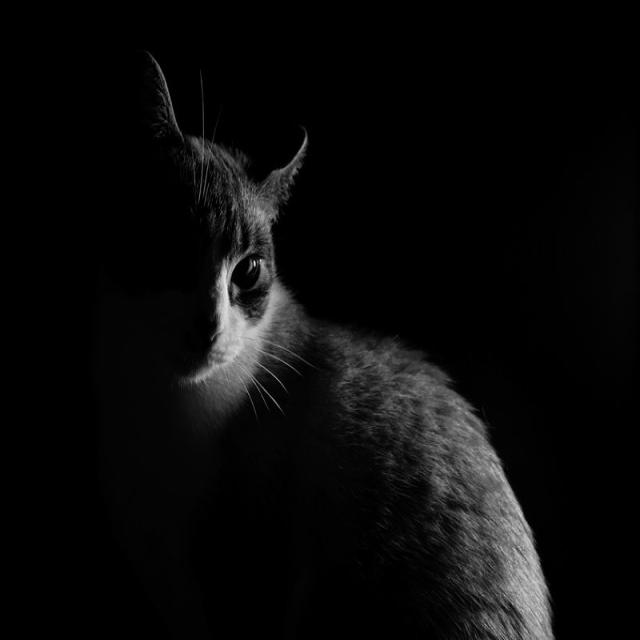Cat: (86, 20, 559, 640)
